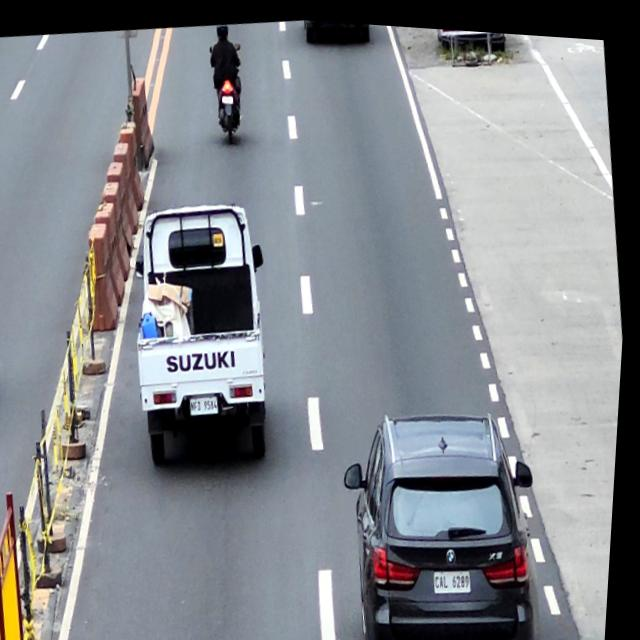Car: (332, 387, 562, 640)
License-Plate: (438, 559, 479, 590), (193, 391, 224, 414), (222, 91, 235, 102)
Motorcycle: (205, 37, 252, 142)
Truck: (119, 192, 293, 471)
